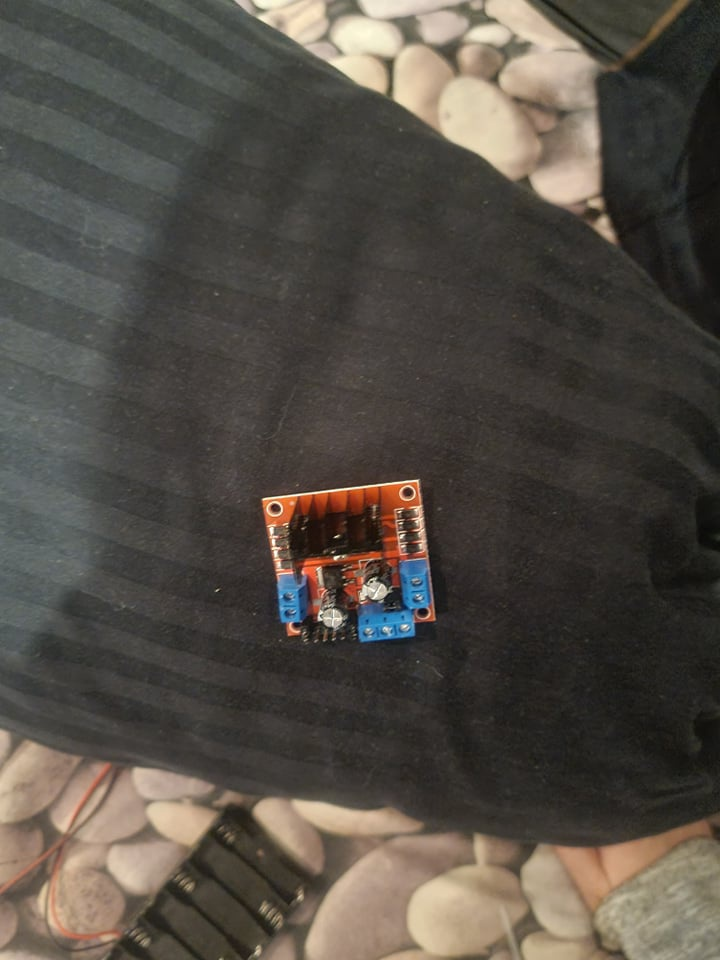MOTOR: (261, 476, 439, 648)
